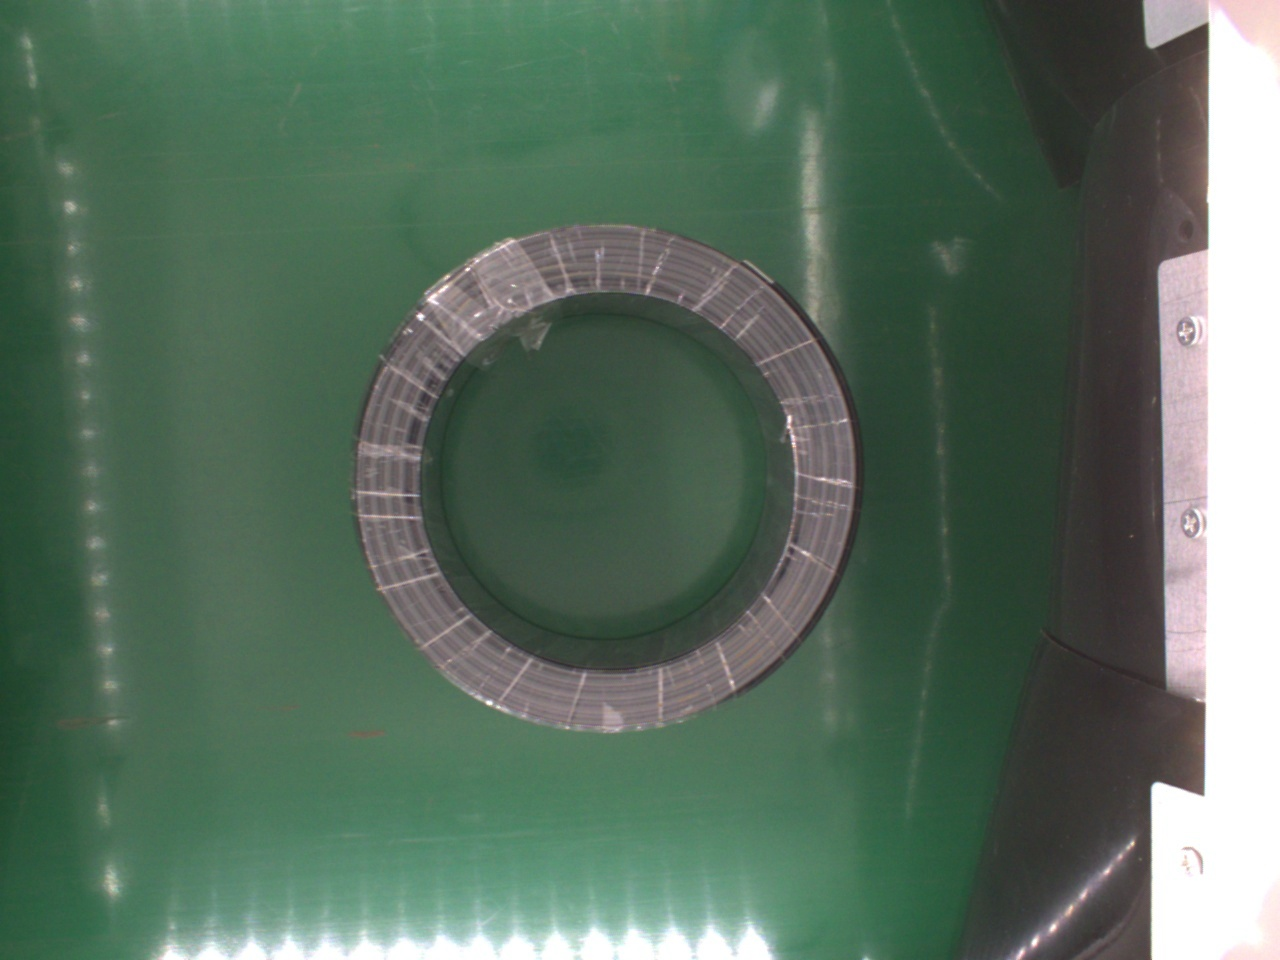black: (351, 223, 860, 732)
